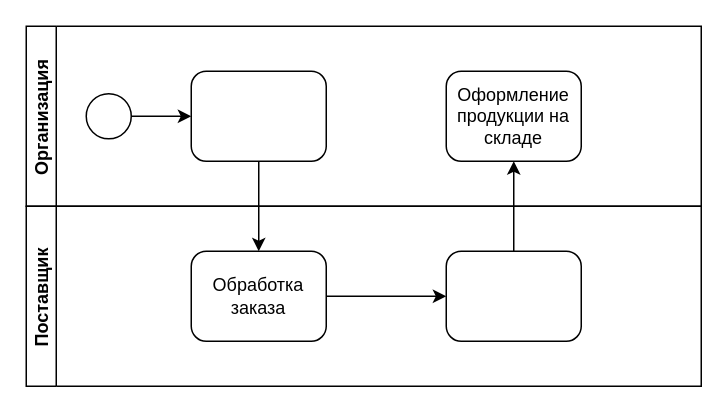
Image size: 728x413. Some labels were removed from this diagram. The shapes that lost their labels are listed below. From the top down, each one's box as (x1, y1, x2, y2) in pixels, then its label:
(190, 70, 326, 161): Создание заказа на покупку
(445, 250, 581, 341): Поставка продукции
